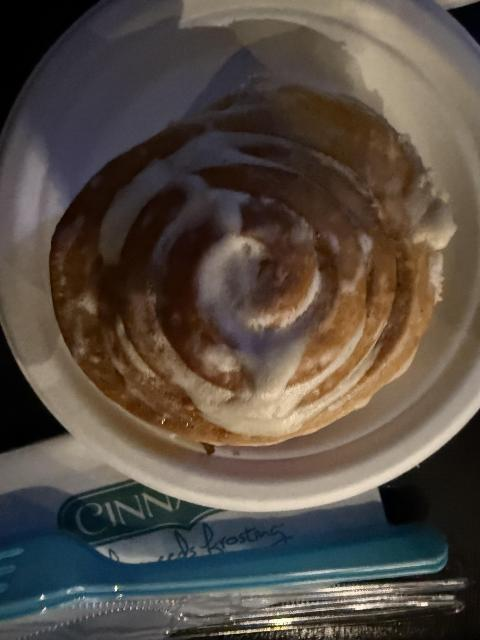Organik: (56, 108, 451, 435)
Plastik: (0, 537, 452, 622)
